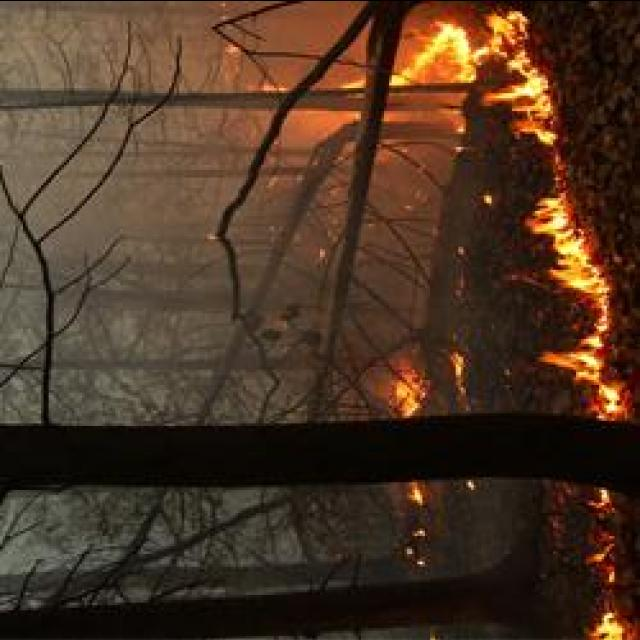fire: (530, 196, 604, 378), (473, 13, 558, 150)
